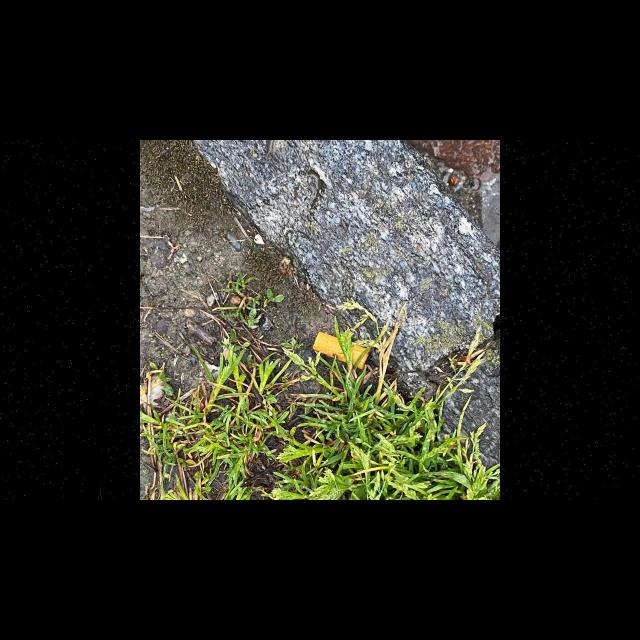cigarette: (312, 331, 372, 370)
